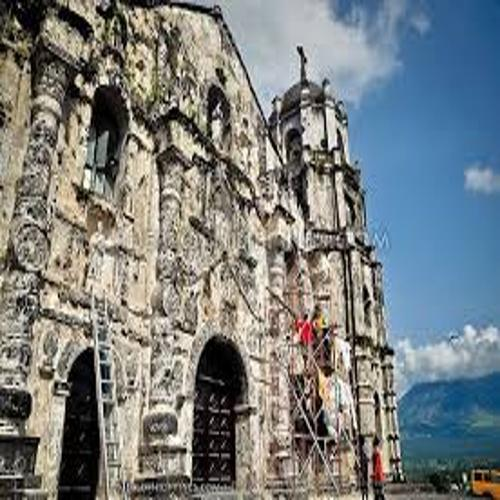Daraga Church: (5, 1, 414, 500)
